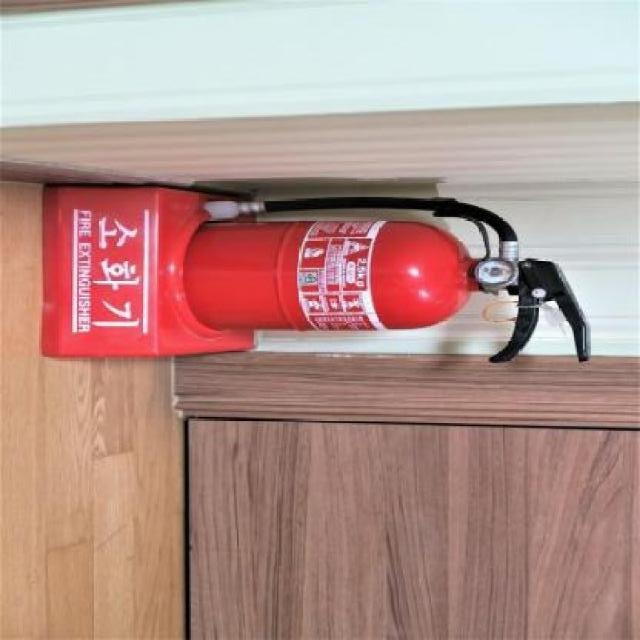fire extinguisher: (183, 198, 592, 364)
